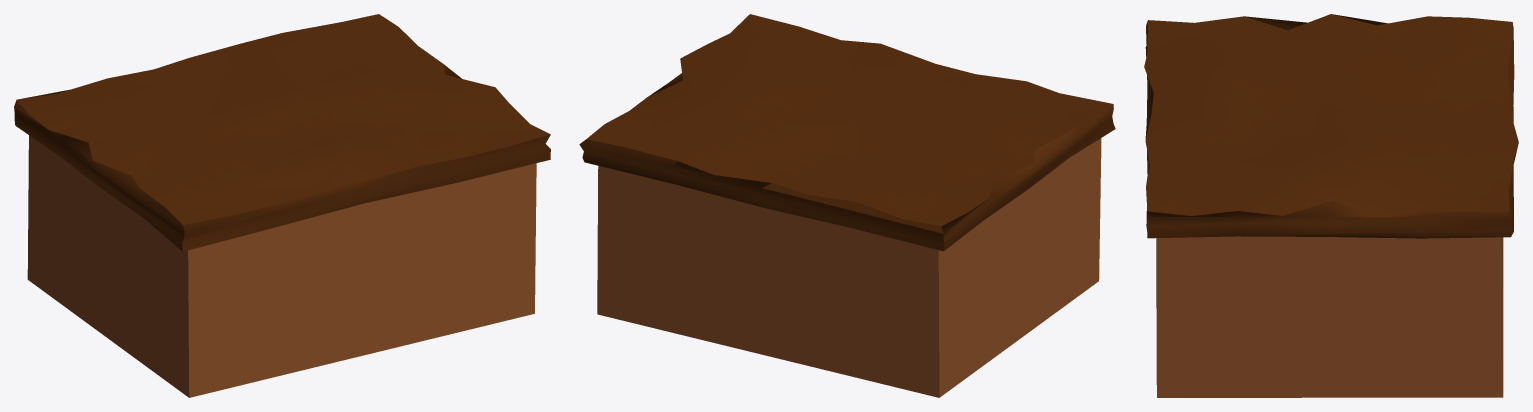
Rendered from plat datar.fbx.
3 views of the same model, side by side, from view 1: azimuth 30°, elevation 25°; view 2: azimuth 150°, elevation 25°; view 3: azimuth 270°, elevation 25° (orthographic). The views are drawn at different scales.
Parts seen in each view (by area): view 1: Cube.016; view 2: Cube.016; view 3: Cube.016.
Boxes of the visible parts, x1,y1,x2,y2 form: Cube.016: (14, 14, 550, 397); Cube.016: (579, 14, 1115, 397); Cube.016: (1144, 14, 1518, 397).
Size of the model in its own units: 2376 by 1115 by 1893.
